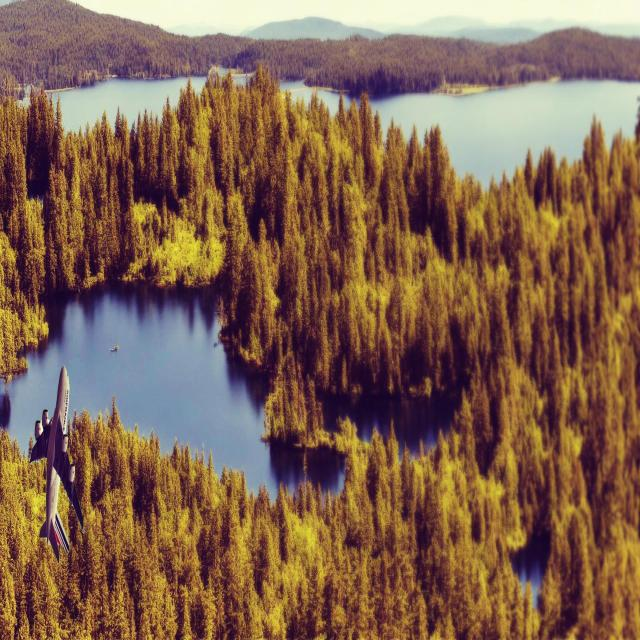airplane: (28, 364, 85, 564)
